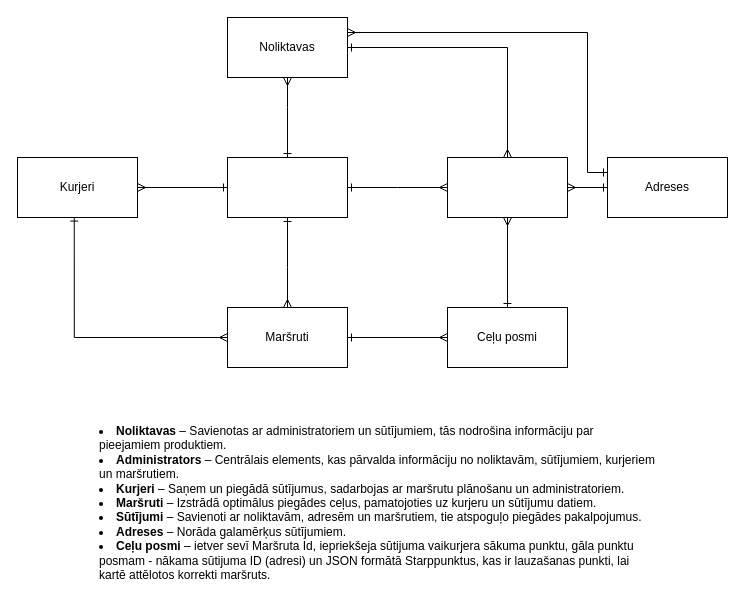
Image size: 745x605. Some labels were removed from this diagram. The centre of each missing label's shape, as x and y in pixels:
Administrators: (x=287, y=187)
Sūtījumi: (x=507, y=187)
